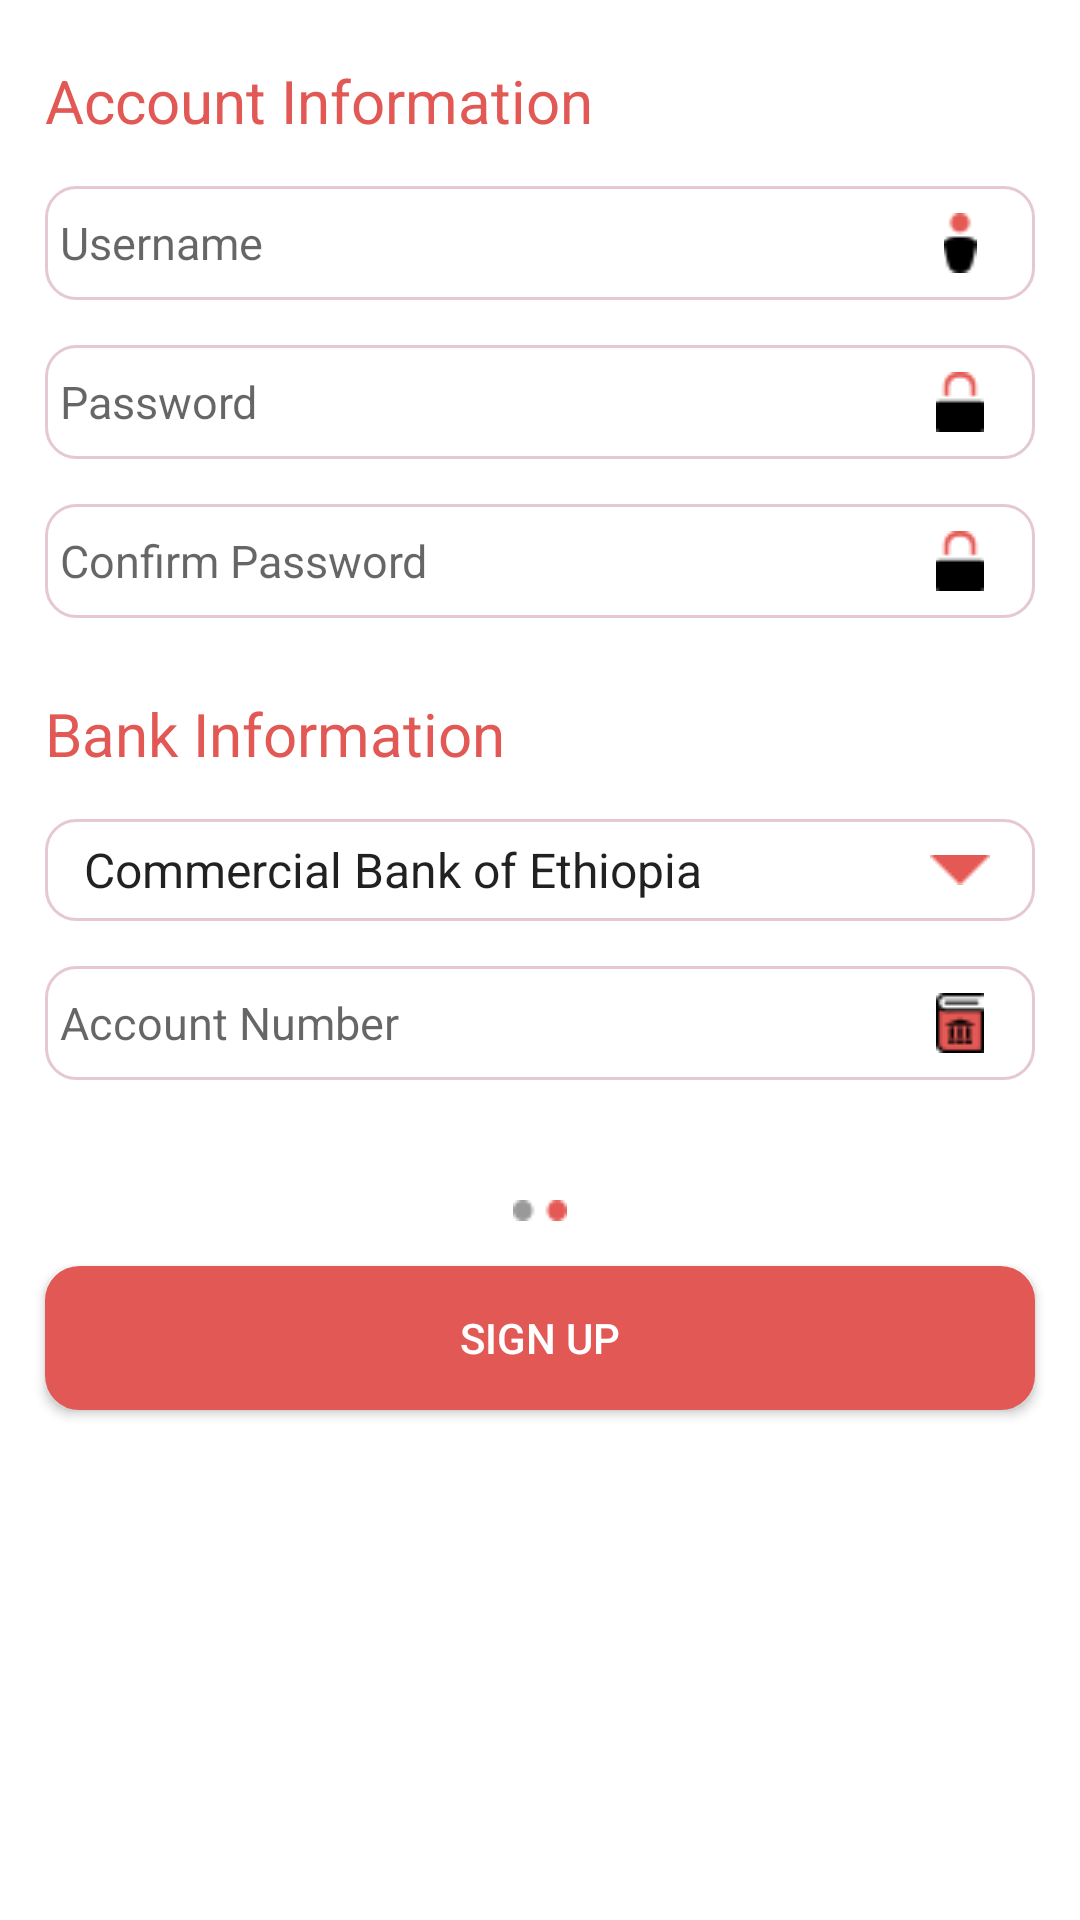

Named icons in this screenshot (1080w x 1920h) and their centers, point (x, y):
drop down: point (960, 870)
